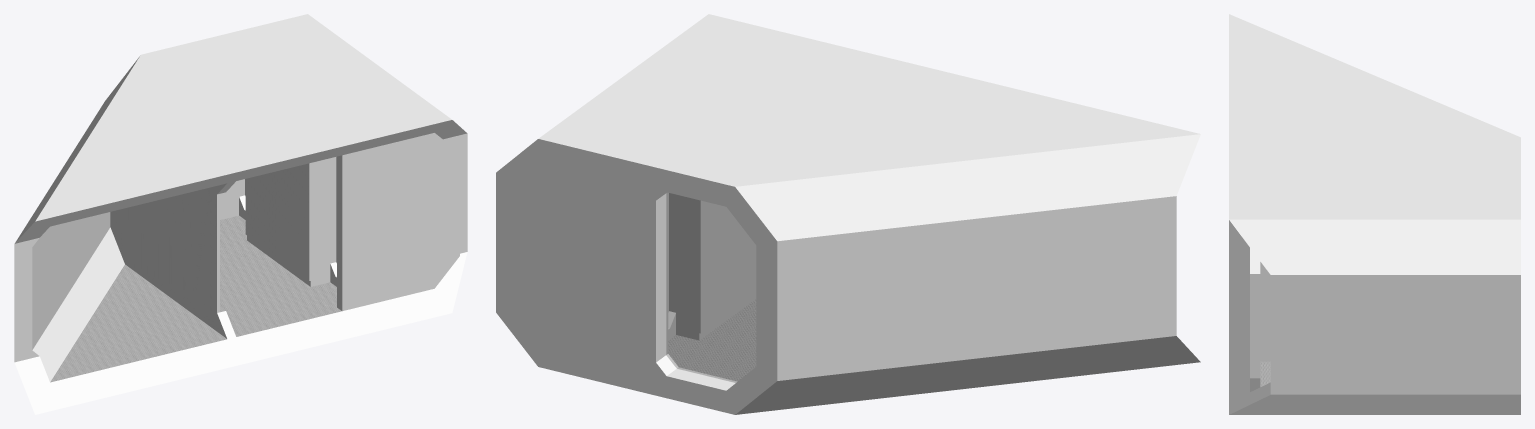
The model's file is ARKHA_SanitaryBayTri_L2_V1.glb.
3 renders of one model, left to right at view 1: azimuth 30°, elevation 25°; view 2: azimuth 150°, elevation 25°; view 3: azimuth 270°, elevation 25°, orthographic. The views are drawn at different scales.
Parts seen in each view (by area): view 1: 29688, 41196, 41198, 40328; view 2: 29688, 29768, 41196; view 3: 29688, 41196, 37018.
Boxes of the visible parts, x1,y1,x2,y2 form: 29688: [14, 14, 467, 414]; 41196: [239, 133, 459, 311]; 41198: [110, 181, 235, 339]; 40328: [189, 187, 219, 318]; 29688: [496, 14, 1200, 414]; 29768: [666, 193, 755, 382]; 41196: [668, 193, 756, 340]; 29688: [1229, 14, 1520, 414]; 41196: [1250, 248, 1270, 391]; 37018: [1260, 262, 1270, 351].
Bounding box in the file's own units: 7.6 × 3.1 × 4.2.
Materials: 441 (1 with a texture image).
